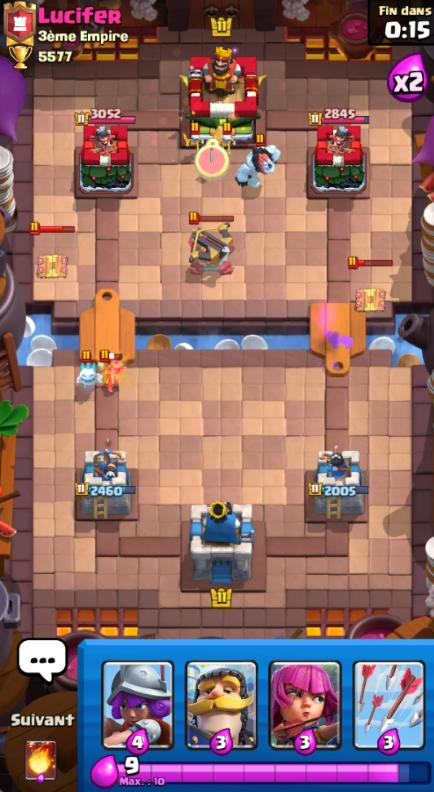archere: (101, 359, 127, 392)
squelette: (215, 127, 238, 152), (180, 131, 206, 152)
